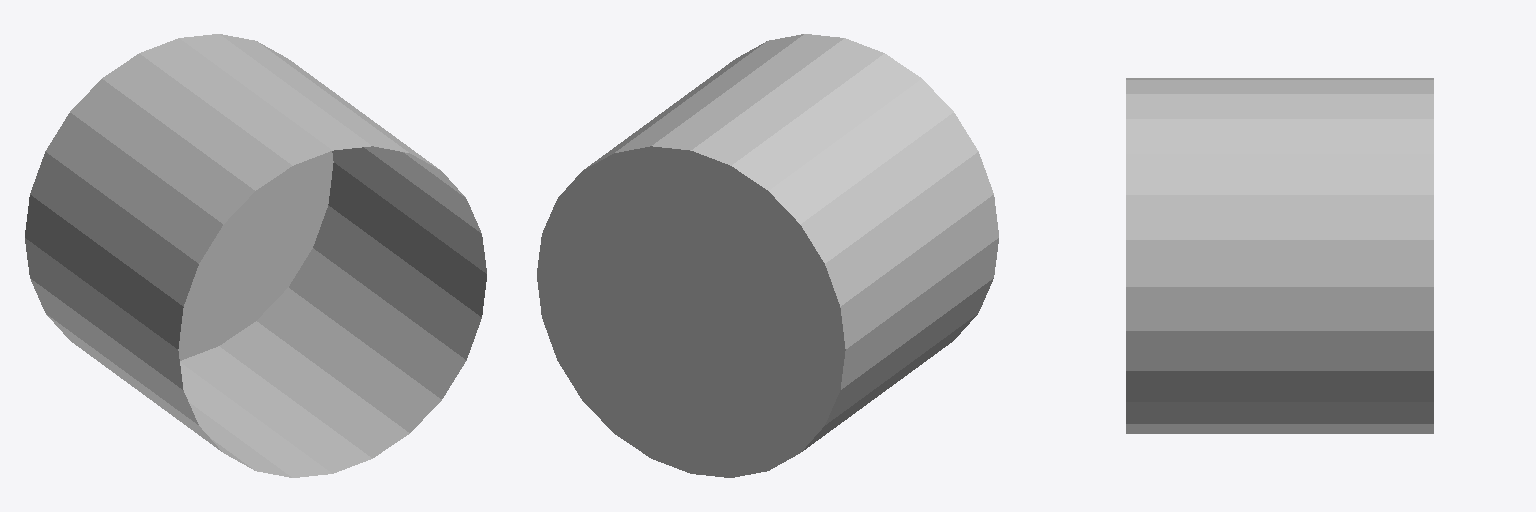
File: original-2.obj
The picture shows the model from 3 angles: view 1: azimuth 30°, elevation 25°; view 2: azimuth 150°, elevation 25°; view 3: azimuth 270°, elevation 25°; orthographic projection.
Visible parts, largest first — view 1: #ID219; view 2: #ID219; view 3: #ID219.
Boxes of the visible parts, x1,y1,x2,y2 form: #ID219: [25, 34, 486, 477]; #ID219: [537, 34, 998, 477]; #ID219: [1126, 78, 1433, 433].
Bounding box in the file's own units: 0.0669 × 0.0669 × 0.0577.